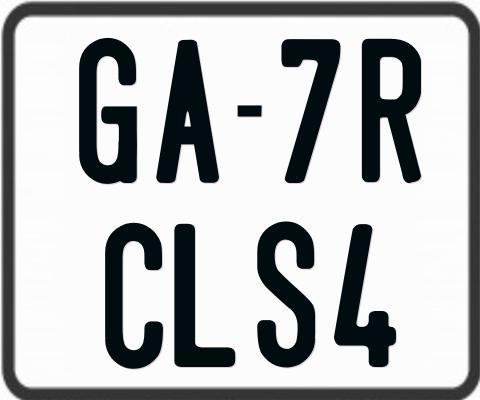4: (334, 223, 400, 367)
7: (280, 39, 339, 184)
A: (154, 40, 222, 183)
C: (104, 221, 164, 372)
G: (78, 38, 140, 187)
L: (172, 222, 233, 371)
R: (359, 37, 418, 183)
S: (255, 222, 313, 374)
